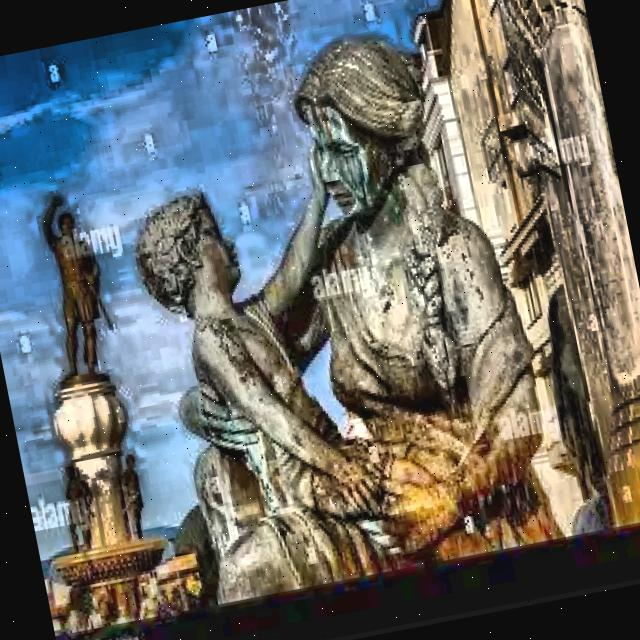Philip II of Macedonia: (0, 197, 186, 622)
